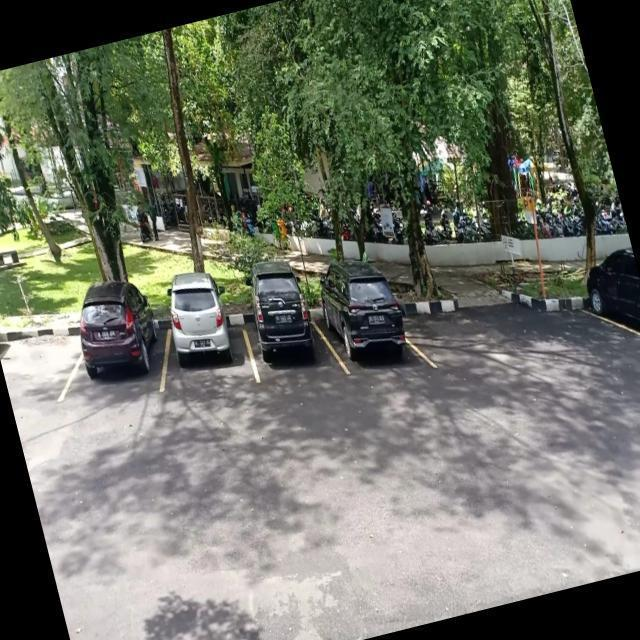Car: (154, 287, 258, 394), (316, 275, 420, 378), (67, 293, 171, 394), (236, 282, 332, 383)
